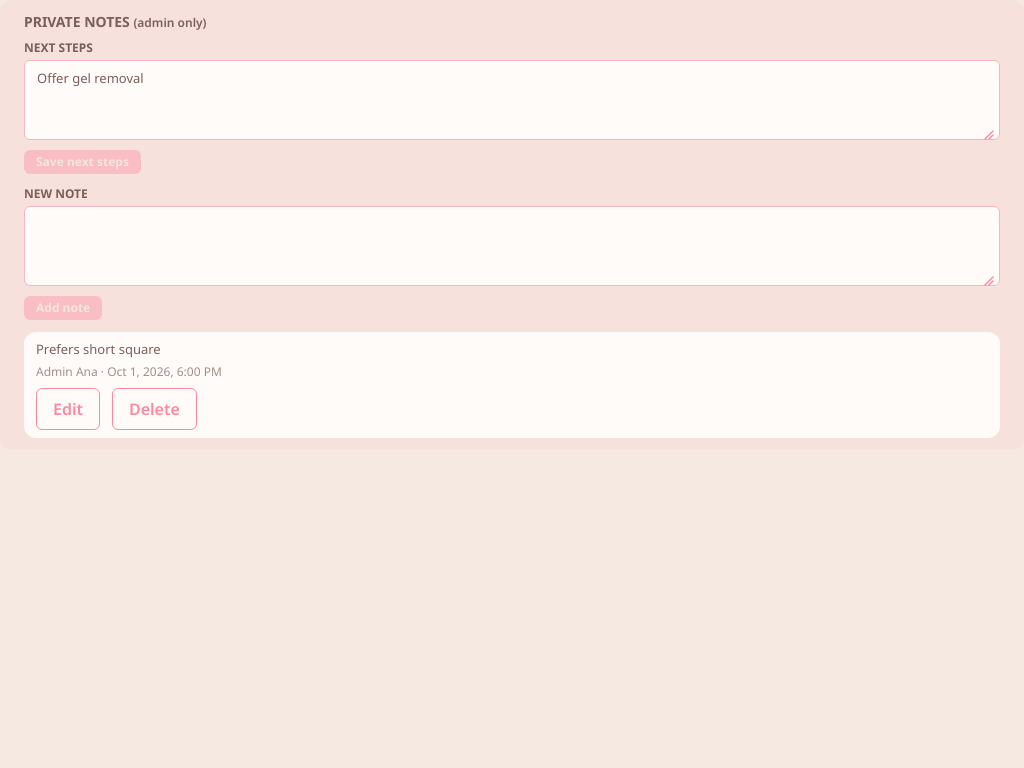
Test: ClientNotesPanel › adds a note and shows it first
Expected: the text box labelled "Next steps" is shown, x1=24 y1=60 x2=1000 y2=140
In the text box labelled "New note": (512, 246) x1=24 y1=206 x2=1000 y2=286, type "  Allergic to acrylic  "
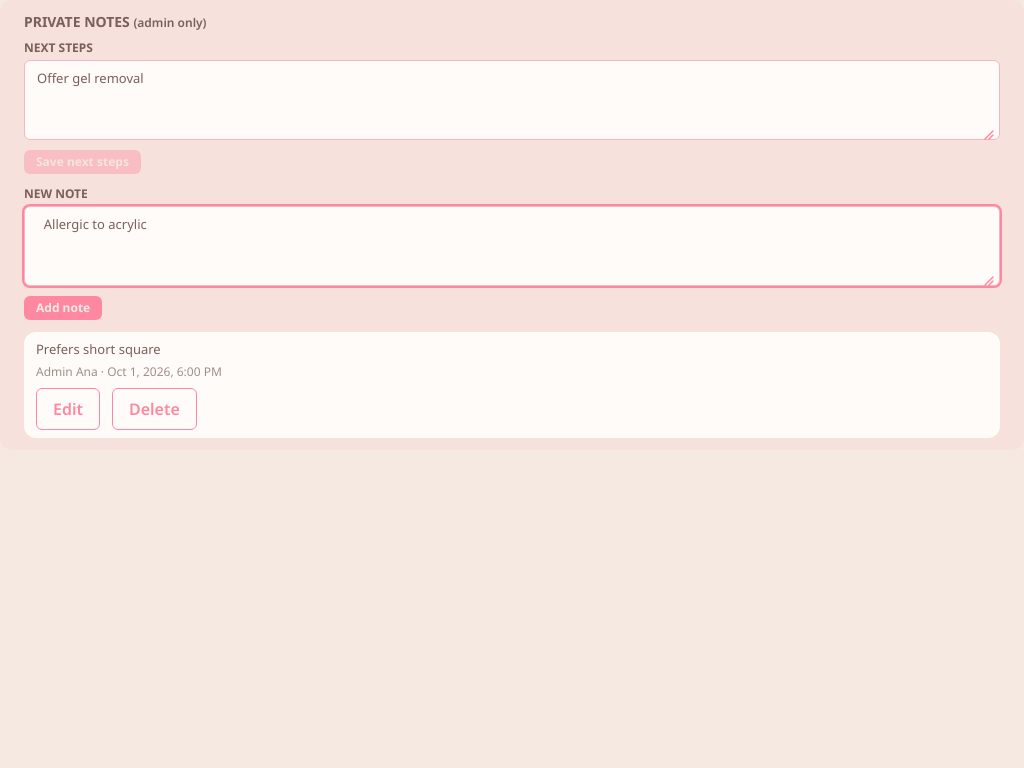
Click the button "Add note": (63, 308) x1=24 y1=296 x2=102 y2=320
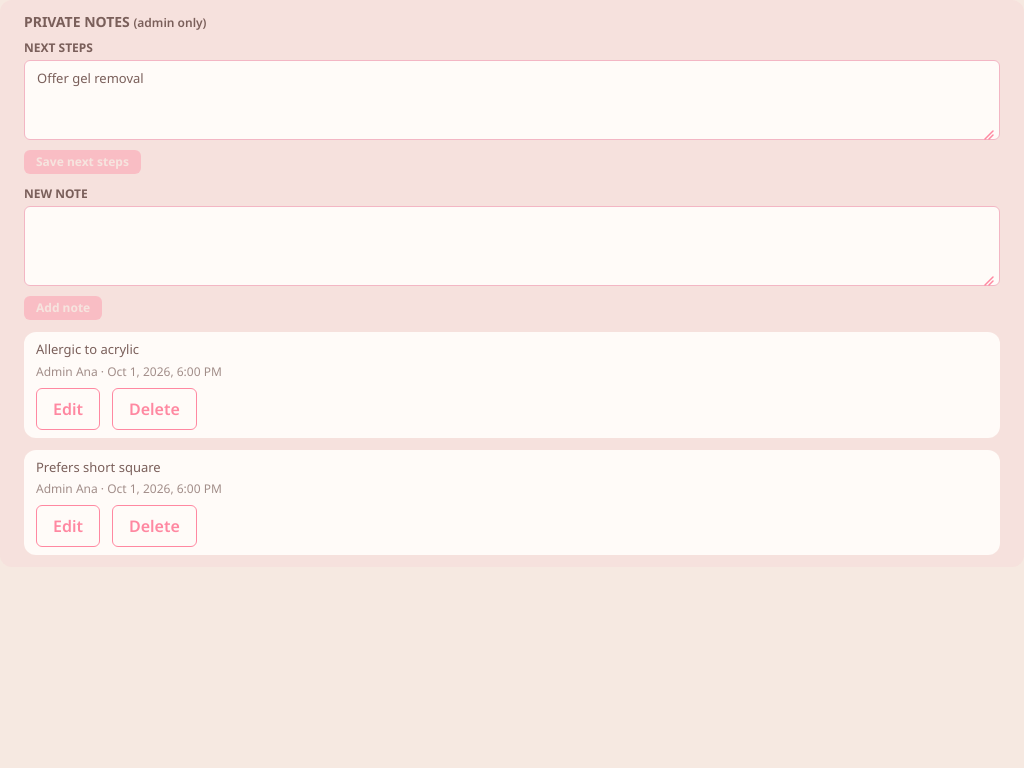
Result: the list item that starts with "Allergic to acrylic" is shown at x1=36 y1=340 x2=139 y2=358
Result: the text box labelled "New note" is empty at x1=24 y1=206 x2=1000 y2=286
